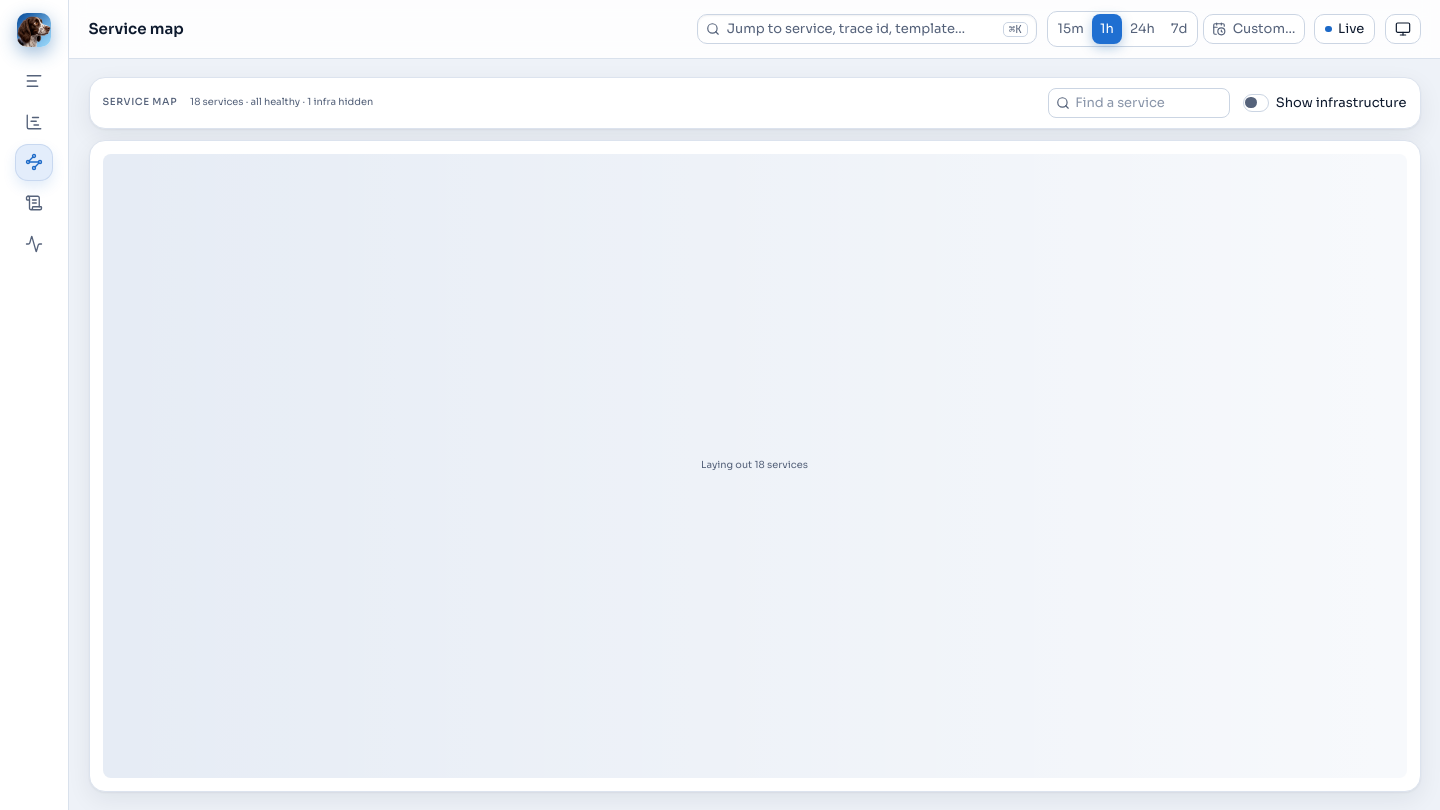
palette search states › keeps a steady results area from the first keystroke, through loading and results
The image size is (1440, 810).
Expected: the navigation bar named "Main" is shown, [16,13,52,253]
Type keys "{Meta>}k{/Meta}"
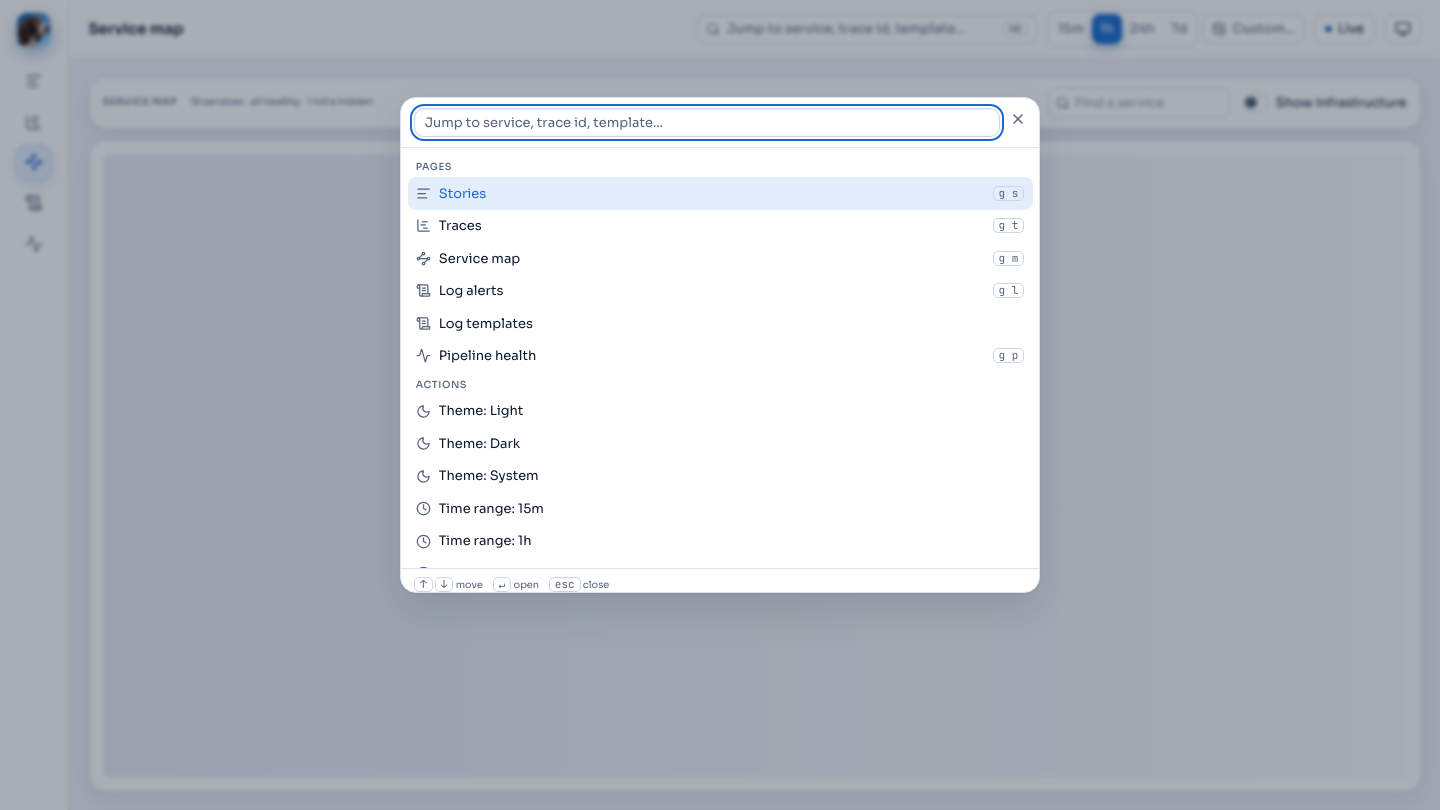
Type "ab" into the dropdown at (707, 123), box [414,108,1000,137]
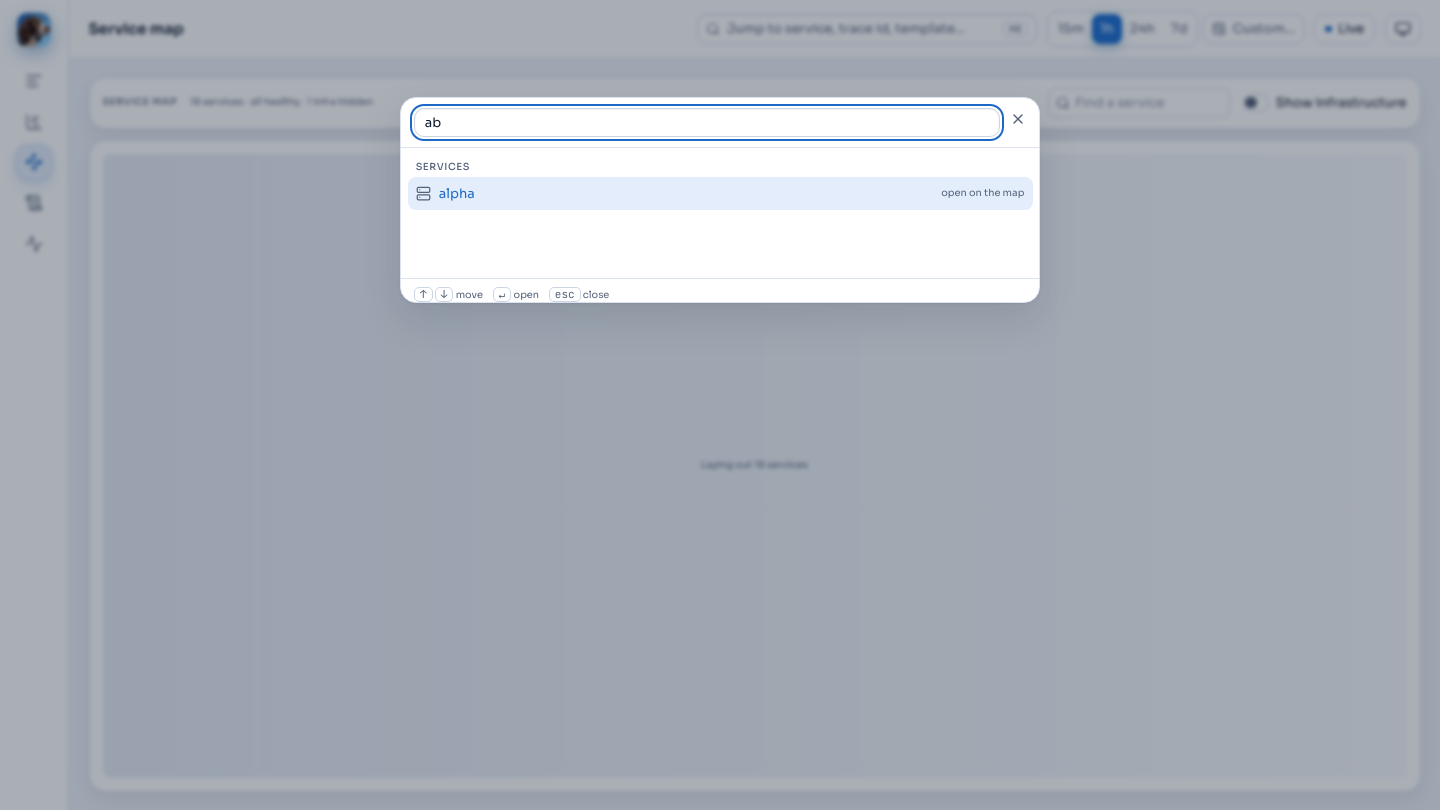
Now the option "alpha open on the map" is shown, box [408,177,1032,210]
